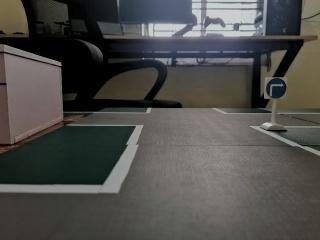right: (263, 71, 290, 106)
